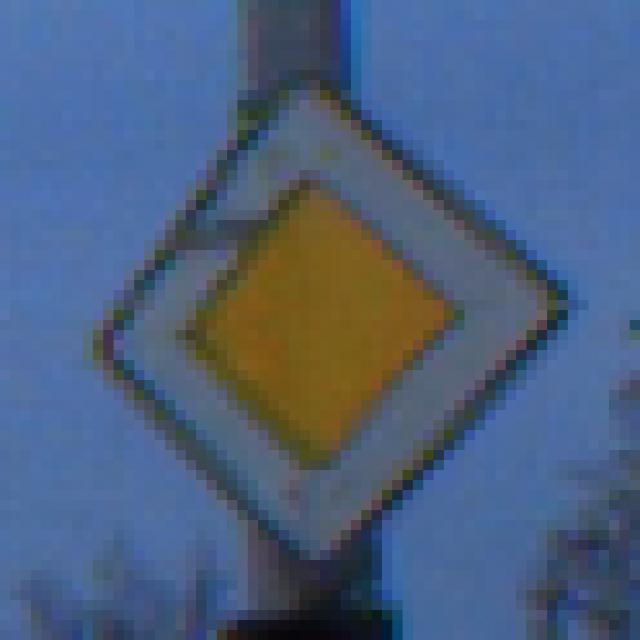Main Road: (63, 51, 589, 591)
